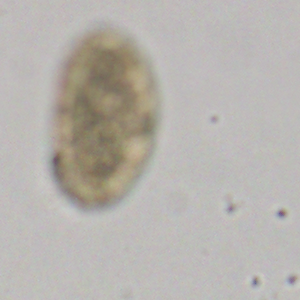Fasciola_hepatica_egg: (52, 22, 164, 212)
